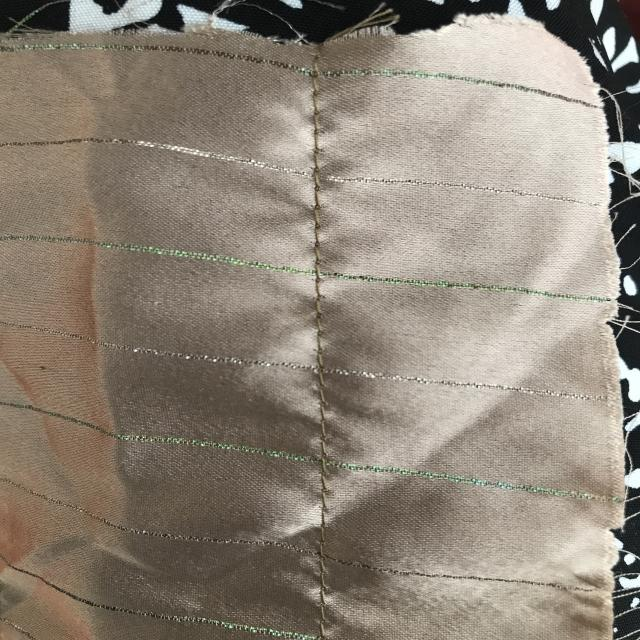good: (294, 180, 336, 260), (299, 384, 344, 456), (294, 285, 335, 350)
